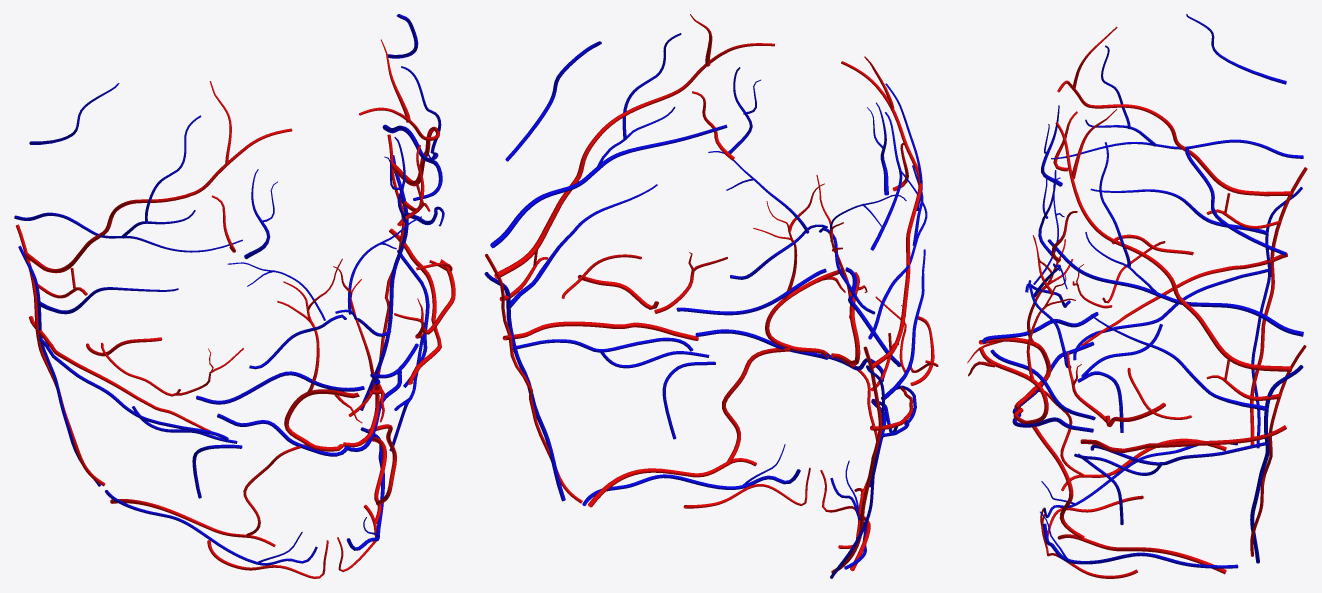
The model's file is Nurves_02.fbx.
3 renders of one model, left to right at view 1: azimuth 30°, elevation 25°; view 2: azimuth 150°, elevation 25°; view 3: azimuth 270°, elevation 25°, orthographic. The views are drawn at different scales.
Parts seen in each view (by area): view 1: Vains_Model1_Blue_Vains_sweep102; view 2: Vains_Model1_Blue_Vains_sweep102; view 3: Vains_Model1_Blue_Vains_sweep102.
Part boxes in pixels (x1,y1,x2,y2): Vains_Model1_Blue_Vains_sweep102: [14, 14, 455, 578]; Vains_Model1_Blue_Vains_sweep102: [484, 14, 938, 578]; Vains_Model1_Blue_Vains_sweep102: [967, 14, 1307, 578].
Size of the model in its own units: 13.88 by 17.11 by 10.98.
